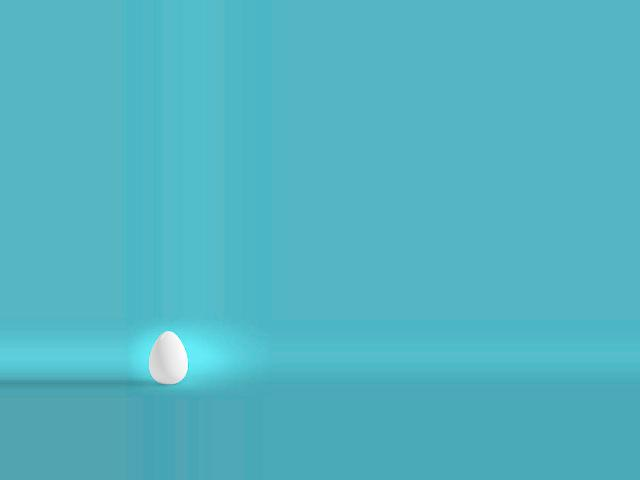egg: (148, 331, 187, 385)
